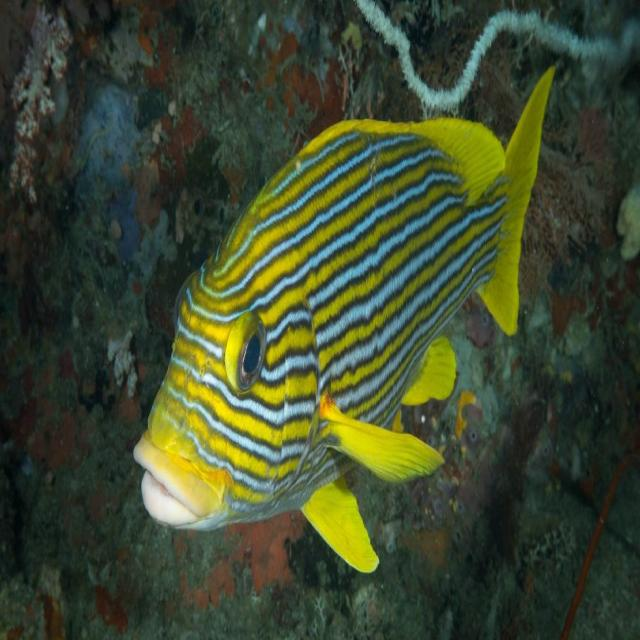RibbonedSweetlips: (132, 61, 556, 574)
